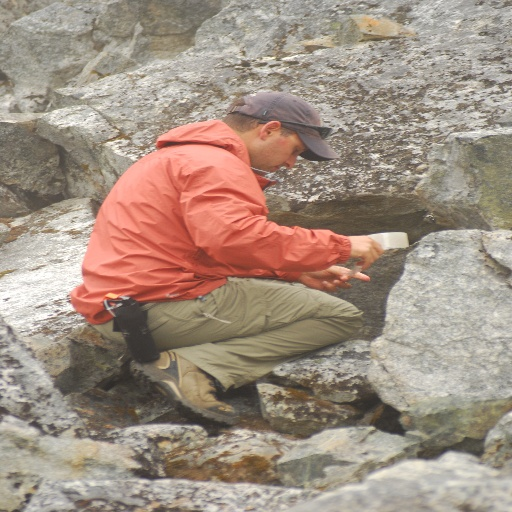hand: (304, 256, 372, 291), (345, 233, 388, 272)
